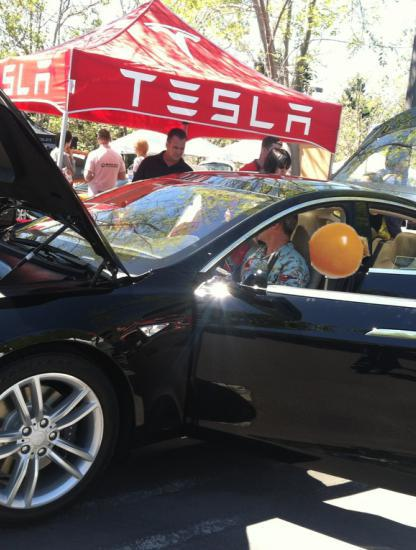Physalis: (310, 220, 371, 281)
